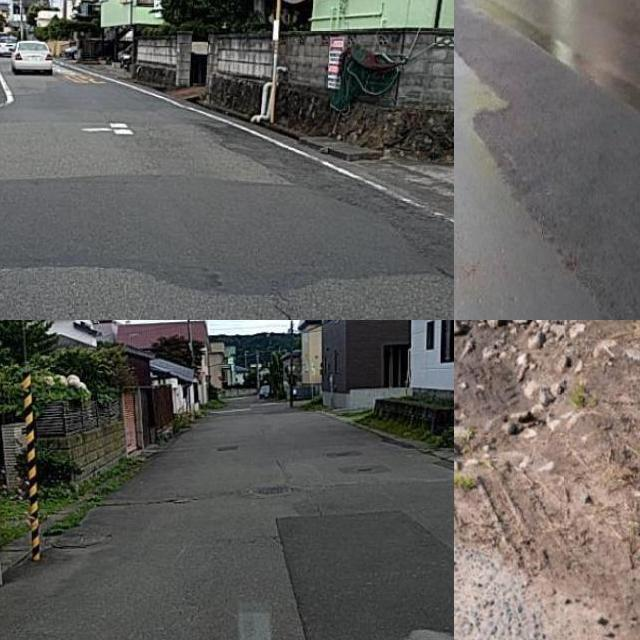Pinggir: (454, 320, 573, 578)
Sambungan: (454, 0, 640, 318), (0, 183, 440, 299), (276, 509, 454, 640)
